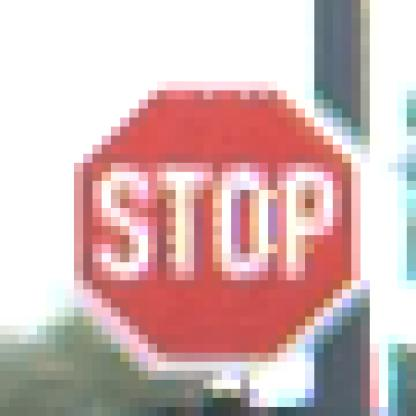Stop: (73, 80, 362, 368)
